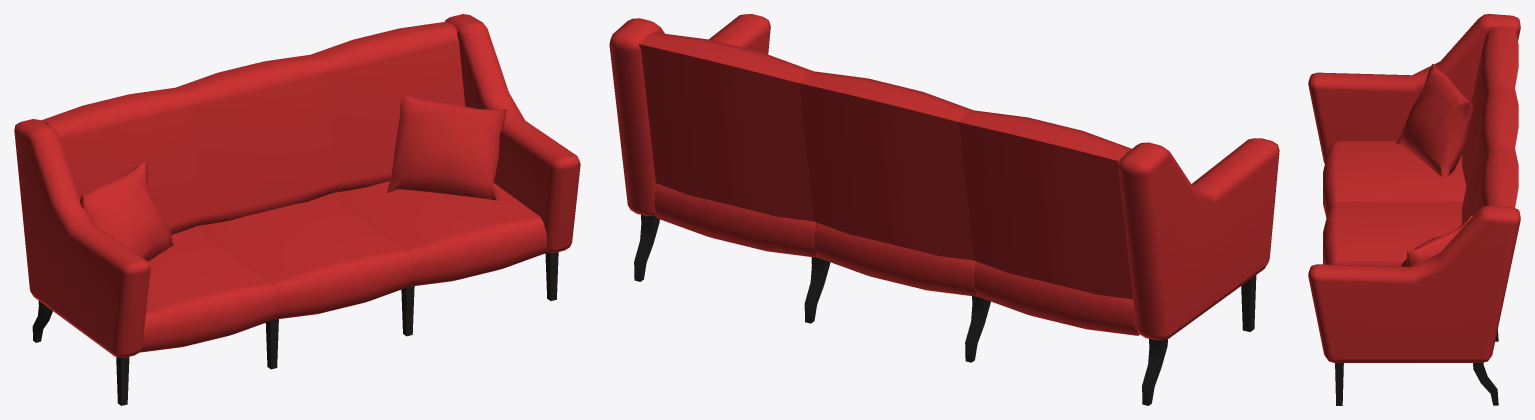
File: sofa_022.fbx
3 views of the same model, side by side, from view 1: azimuth 30°, elevation 25°; view 2: azimuth 150°, elevation 25°; view 3: azimuth 270°, elevation 25° (orthographic). The views are drawn at different scales.
Parts seen in each view (by area): view 1: sofa_022; view 2: sofa_022; view 3: sofa_022.
Part boxes in pixels (left/top/right/bottom): sofa_022: left=14, top=14, right=580, bottom=405; sofa_022: left=609, top=14, right=1279, bottom=405; sofa_022: left=1308, top=14, right=1520, bottom=405.
Size of the model in its own units: 287 by 126 by 130.
